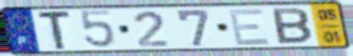2: (131, 10, 172, 49)
5: (78, 9, 118, 50)
7: (174, 9, 211, 48)
B: (270, 7, 315, 46)
E: (226, 7, 273, 47)
T: (37, 9, 74, 52)
